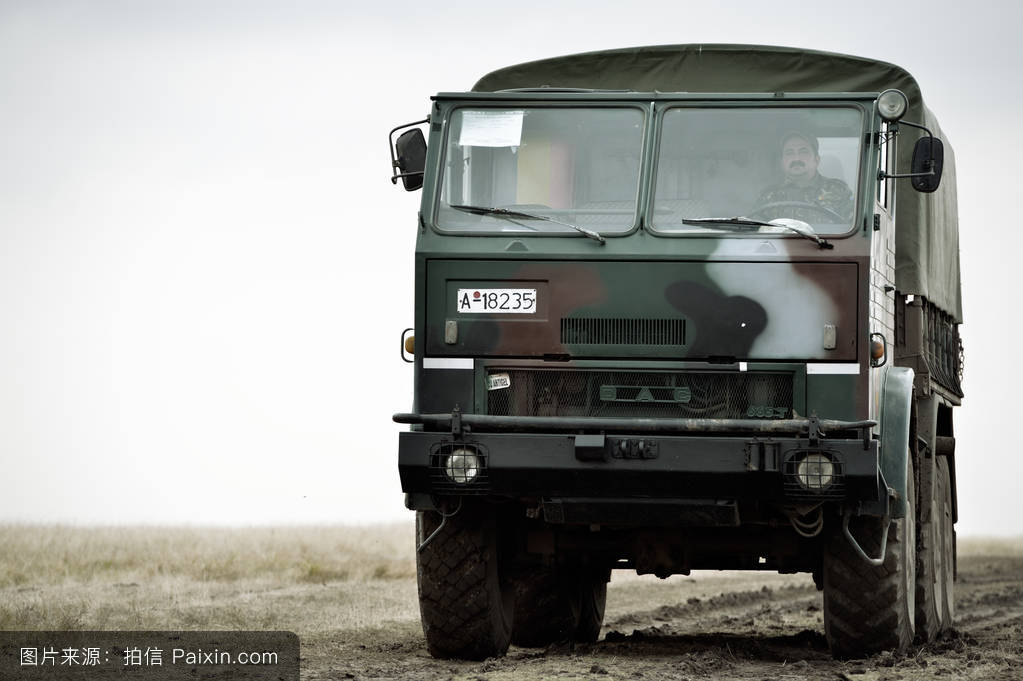truck: (386, 53, 966, 660)
